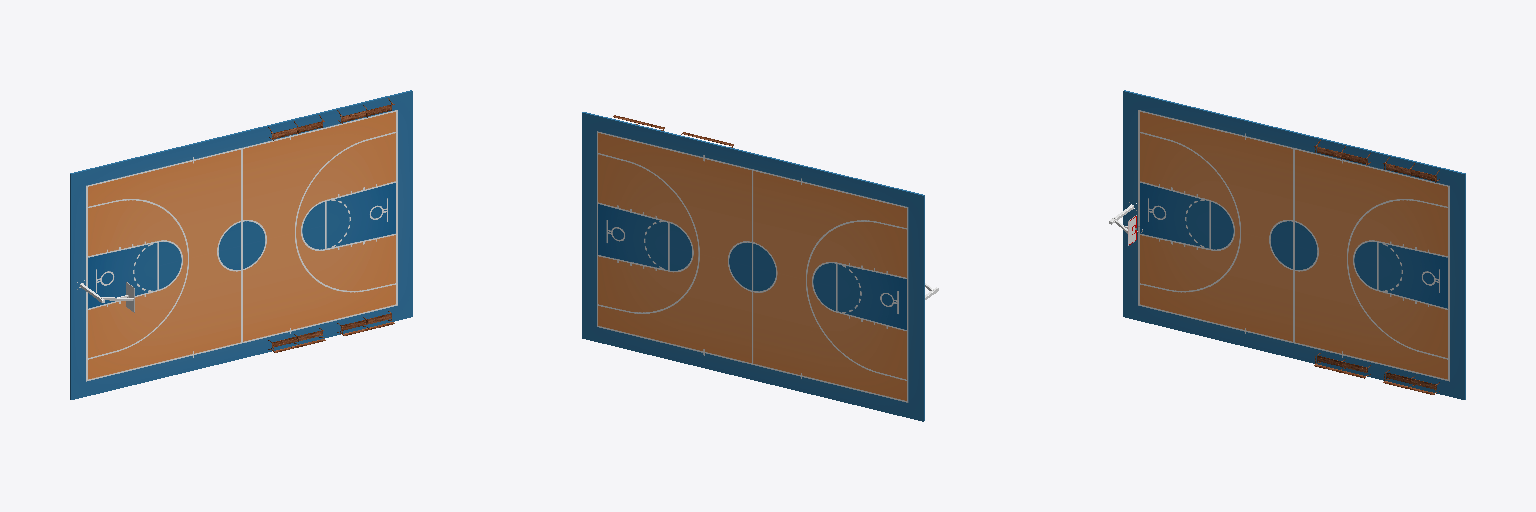
The picture shows the model from 3 angles: view 1: azimuth 30°, elevation 25°; view 2: azimuth 150°, elevation 25°; view 3: azimuth 330°, elevation 25°; orthographic projection.
Parts seen in each view (by area): view 1: Object.3; view 2: Object.3; view 3: Object.3.
Boxes of the visible parts, x1=… form: Object.3: x1=70, y1=90, x2=412, y2=399; Object.3: x1=582, y1=112, x2=924, y2=421; Object.3: x1=1123, y1=90, x2=1465, y2=399.
Bounding box in the file's own units: 12.06 × 7.62 × 1.86.
Materials: 5 (3 with a texture image).